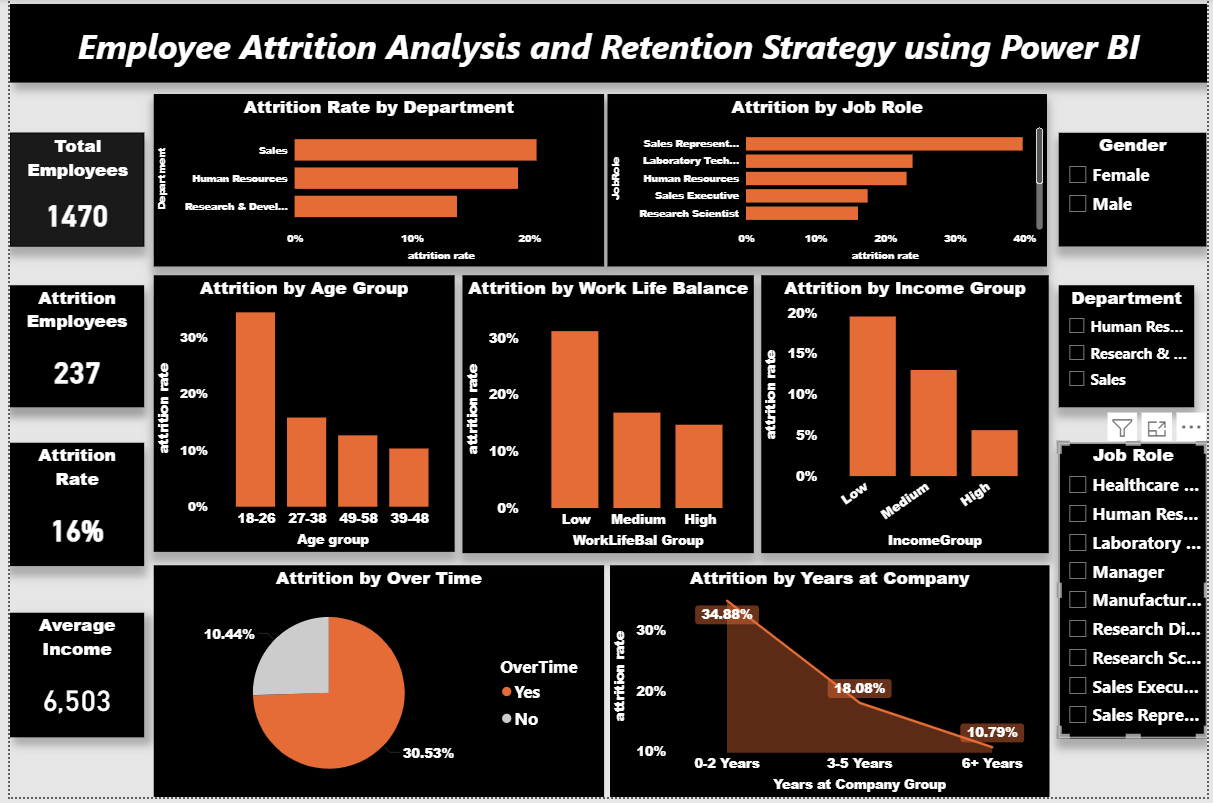

This screenshot's page, from the dashboard's own definition file:
{"tool":"powerbi","page":{"name":"Page 1","canvas":[1500,1000],"ordinal":0},"visuals":[{"type":"card","title":"Total Employees","fields":{"Values":["Raw Data.total employees"]},"box":[0,168.1,168.1,142.7],"z":0},{"type":"card","title":"Attrition Employees","fields":{"Values":["Raw Data.attrition employees"]},"box":[0,358.4,168.1,152.9],"z":1000},{"type":"card","title":"Average Income","fields":{"Values":["Raw Data.Average Income"]},"box":[0,769.4,168.1,156.3],"z":2000},{"type":"card","title":"Attrition Rate","fields":{"Values":["Raw Data.attrition rate"]},"box":[0,555.4,168.1,154.6],"z":3000},{"type":"barChart","title":"Attrition Rate by Department","fields":{"Category":["Raw Data.Department"],"Y":["Raw Data.attrition rate"]},"box":[180,118.9,563.9,215.7],"z":4000},{"type":"barChart","title":"Attrition by Job Role","fields":{"Y":["Raw Data.attrition rate"],"Category":["Raw Data.JobRole"]},"box":[749,118.9,550.3,215.7],"z":5000},{"type":"columnChart","title":"Attrition by Age Group","fields":{"Y":["Raw Data.attrition rate"],"Category":["Raw Data.Age group"]},"box":[180,346.5,377,346.5],"z":6000},{"type":"columnChart","title":"Attrition  by Income Group","fields":{"Category":["Raw Data.IncomeGroup"],"Y":["Raw Data.attrition rate"]},"box":[940.9,346.5,360.1,348.2],"z":7000},{"type":"pieChart","title":"Attrition by Over Time","fields":{"Category":["Raw Data.OverTime"],"Y":["Raw Data.attrition rate"]},"box":[180,709.9,563.9,290.4],"z":8000},{"type":"lineChart","title":"Attrition by Years at Company","fields":{"Y":["Raw Data.attrition rate"],"Category":["Raw Data.Years at Company Group"]},"box":[750.7,709.9,550.3,290.4],"z":9000},{"type":"columnChart","title":"Attrition by Work Life Balance","fields":{"Category":["Raw Data.WorkLifeBal Group"],"Y":["Raw Data.attrition rate"]},"box":[567.3,346.5,365.2,348.2],"z":10000},{"type":"slicer","title":"Department","fields":{"Values":["Raw Data.Department"]},"box":[1312.8,358.4,169.8,152.9],"z":11000},{"type":"slicer","title":"Gender","fields":{"Values":["Raw Data.Gender"]},"box":[1312.8,168.1,185.1,142.7],"z":12000},{"type":"slicer","title":"Job Role","fields":{"Values":["Raw Data.JobRole"]},"box":[1312.8,555.4,186.8,370.2],"z":13000},{"type":"textbox","box":[0,6.8,1499.7,98.5],"z":14000}]}

Visuals, with their boxes in screenshot pixels (x1, y1, x2, y2), scaled from the page's 1500x1000 canvas onto the 1213x803 screenshot:
"Total Employees" card: (0,135,136,250)
"Attrition Employees" card: (0,288,136,411)
"Average Income" card: (0,618,136,743)
"Attrition Rate" card: (0,446,136,570)
"Attrition Rate by Department" barChart: (146,95,602,269)
"Attrition by Job Role" barChart: (606,95,1051,269)
"Attrition by Age Group" columnChart: (146,278,450,556)
"Attrition  by Income Group" columnChart: (761,278,1052,558)
"Attrition by Over Time" pieChart: (146,570,602,802)
"Attrition by Years at Company" lineChart: (607,570,1052,802)
"Attrition by Work Life Balance" columnChart: (459,278,754,558)
"Department" slicer: (1062,288,1199,411)
"Gender" slicer: (1062,135,1211,250)
"Job Role" slicer: (1062,446,1212,743)
textbox: (0,5,1212,85)
